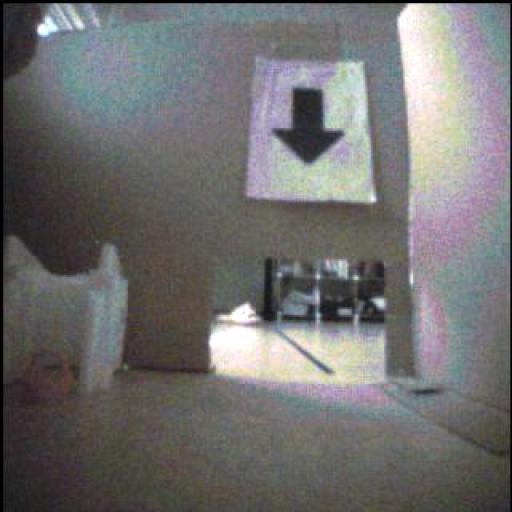arrow: (275, 89, 345, 164)
